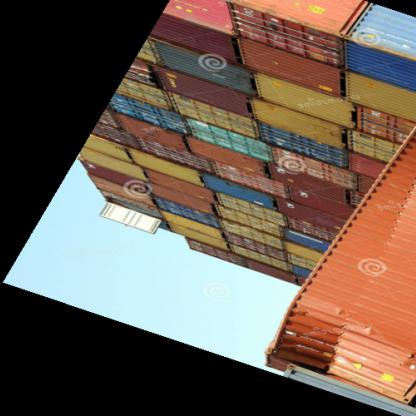Damage: (273, 314, 355, 375)
